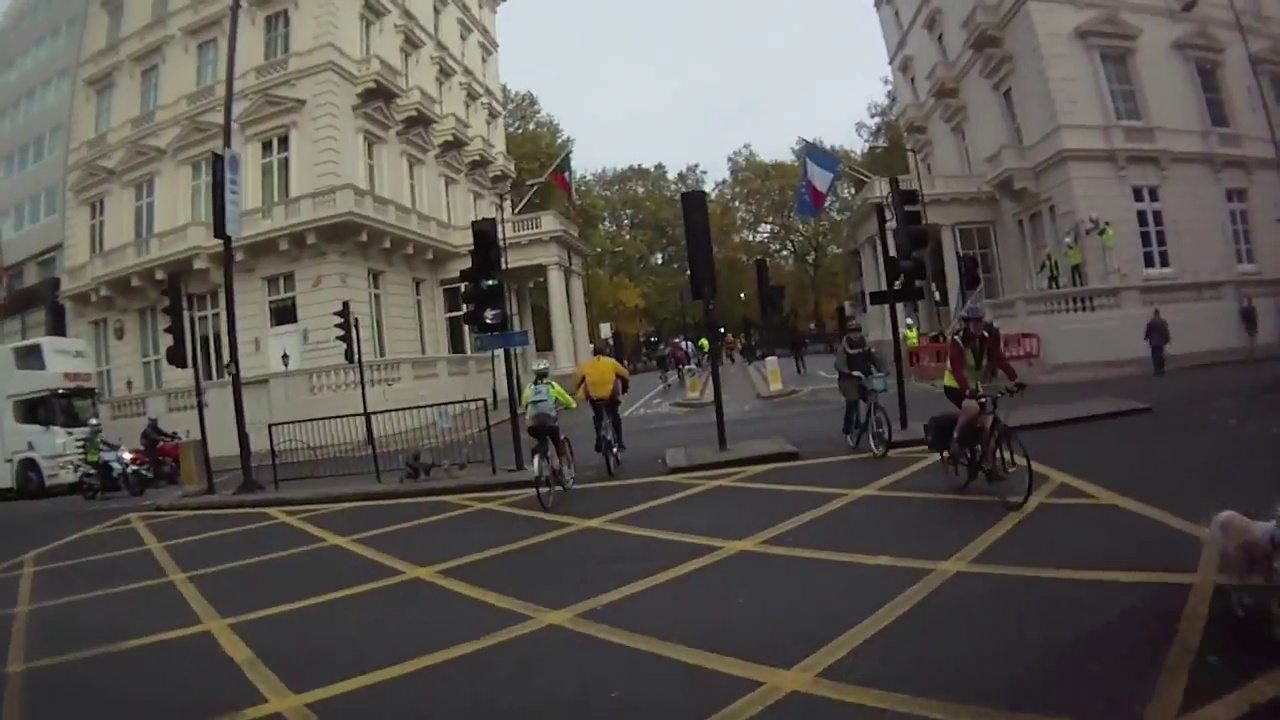cyclist_back: (515, 358, 586, 512), (578, 329, 636, 478)
cyclist_front: (933, 300, 1041, 512), (831, 307, 900, 464)
